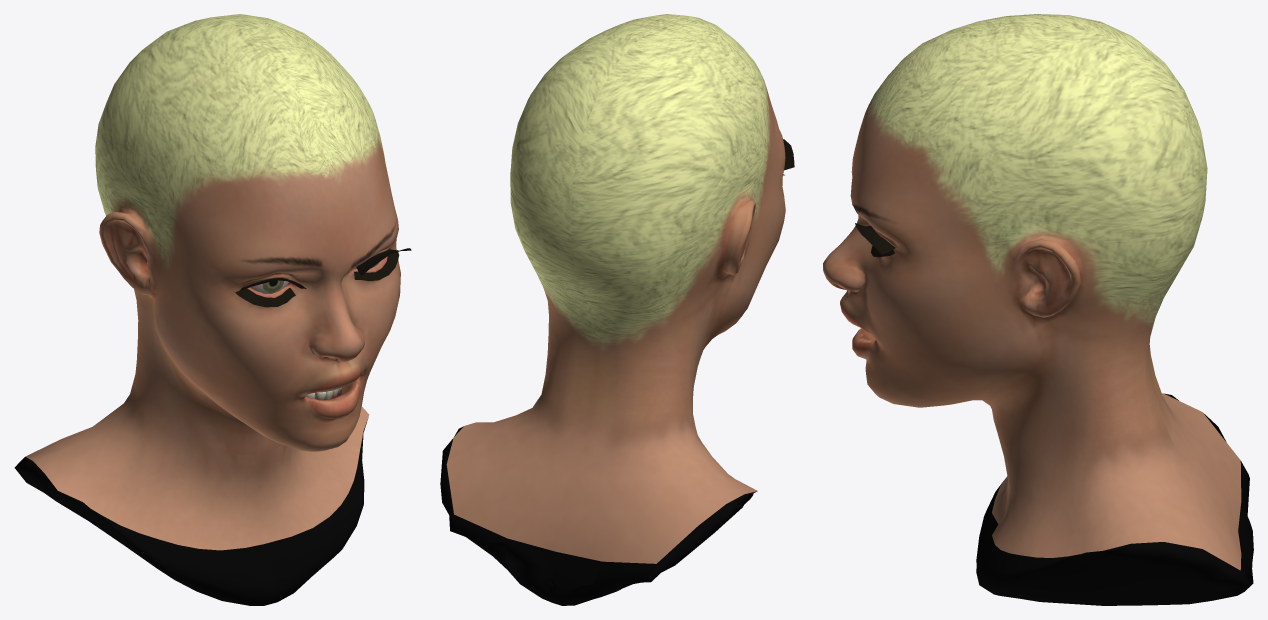
File: Head_th.obj
The picture shows the model from 3 angles, left to right: view 1: azimuth 30°, elevation 25°; view 2: azimuth 150°, elevation 25°; view 3: azimuth 270°, elevation 25°; orthographic projection. The views are drawn at different scales.
Parts seen in each view (by area): view 1: BodyParts; view 2: BodyParts; view 3: BodyParts.
Boxes of the visible parts, box(x1,y1,x2,y2) form: BodyParts: box(14, 14, 411, 605); BodyParts: box(440, 14, 794, 605); BodyParts: box(823, 14, 1253, 605).
Bounding box in the file's own units: 21.19 × 35.94 × 24.45.
2 materials, 2 textured.
